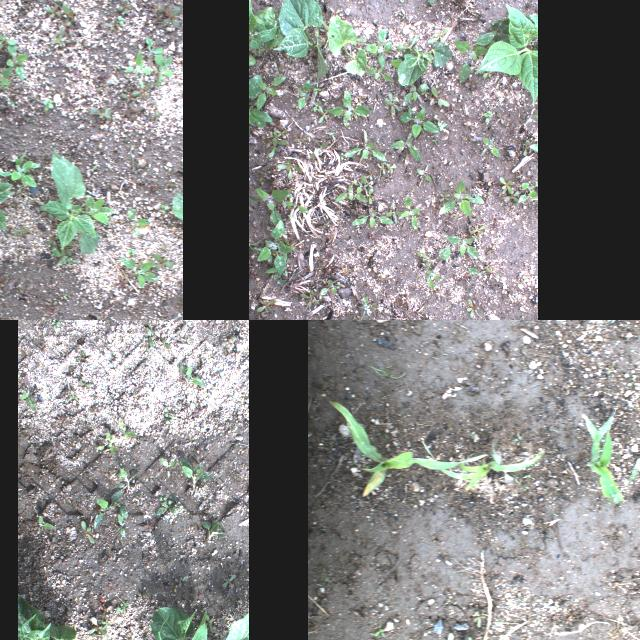crop: (331, 400, 485, 502), (474, 4, 538, 106), (422, 441, 548, 491), (40, 150, 99, 254), (272, 0, 327, 82), (584, 414, 626, 506), (397, 33, 453, 87), (17, 593, 76, 640), (249, 0, 285, 72), (327, 16, 368, 78), (151, 607, 215, 640), (201, 600, 249, 640), (0, 165, 15, 233), (172, 192, 182, 220), (629, 455, 640, 480)
weed: (452, 32, 498, 84), (256, 220, 292, 280), (438, 180, 484, 218), (328, 90, 372, 128), (249, 189, 288, 231), (249, 74, 272, 142), (92, 486, 128, 528), (0, 150, 39, 188), (344, 131, 386, 161), (365, 29, 395, 70), (178, 460, 214, 494), (399, 108, 439, 138), (73, 197, 114, 225), (122, 257, 158, 287), (255, 76, 285, 110), (388, 132, 422, 162), (125, 52, 151, 86), (351, 209, 393, 229), (444, 237, 478, 261), (416, 247, 452, 269), (401, 193, 421, 231), (122, 88, 144, 120), (7, 46, 27, 80), (347, 296, 375, 320), (152, 56, 174, 86), (280, 200, 310, 222), (249, 227, 265, 267), (402, 82, 428, 106), (95, 428, 117, 456), (128, 210, 150, 237), (146, 34, 164, 66), (335, 184, 367, 202), (179, 363, 205, 385), (384, 198, 402, 226), (159, 6, 181, 28), (364, 66, 394, 82), (278, 158, 302, 178), (201, 520, 225, 540), (383, 92, 402, 116), (297, 80, 311, 112), (119, 416, 138, 439), (518, 182, 538, 202), (156, 496, 176, 516), (118, 469, 138, 489), (87, 616, 107, 636), (52, 248, 76, 264), (430, 89, 450, 108), (483, 137, 501, 157), (320, 278, 340, 296), (299, 289, 319, 307), (424, 270, 441, 290), (310, 142, 328, 160), (132, 83, 152, 99), (19, 392, 35, 412), (428, 28, 450, 42), (154, 254, 172, 270), (56, 22, 74, 38), (416, 164, 432, 182), (498, 176, 514, 194), (80, 522, 92, 546), (502, 191, 522, 205), (352, 175, 366, 195), (466, 298, 479, 318), (318, 105, 332, 123), (36, 516, 54, 530), (468, 613, 486, 627), (90, 108, 112, 119), (0, 68, 10, 92), (0, 33, 15, 49), (63, 3, 75, 23), (256, 300, 276, 312), (202, 614, 215, 632), (523, 140, 537, 156), (374, 623, 388, 639), (265, 137, 287, 147), (145, 328, 155, 350), (160, 457, 178, 469), (117, 2, 133, 15), (469, 224, 486, 236), (116, 514, 125, 536), (46, 4, 60, 18), (524, 110, 538, 124), (434, 116, 446, 132), (463, 76, 479, 88), (486, 268, 502, 280), (220, 574, 236, 586), (154, 328, 166, 344), (268, 138, 278, 156), (219, 336, 237, 346), (282, 239, 296, 251), (277, 270, 289, 284), (115, 602, 129, 614), (174, 324, 186, 338), (136, 588, 148, 602), (42, 98, 54, 110), (467, 267, 485, 275), (119, 504, 128, 520), (330, 7, 340, 21), (319, 21, 329, 35), (312, 82, 322, 96), (274, 129, 288, 139), (102, 606, 112, 620), (487, 244, 498, 256), (310, 101, 322, 111), (270, 121, 282, 131), (294, 135, 308, 143), (390, 60, 404, 68), (482, 70, 496, 78), (448, 209, 459, 219), (68, 391, 78, 402), (46, 237, 58, 246), (483, 111, 492, 123), (498, 112, 507, 124), (164, 178, 174, 188), (54, 34, 64, 44), (272, 65, 282, 75), (483, 261, 493, 271), (366, 170, 376, 180), (364, 178, 374, 188), (520, 273, 530, 283), (49, 320, 60, 329), (158, 205, 170, 213), (153, 100, 159, 116), (104, 22, 116, 30), (354, 38, 366, 46), (420, 89, 430, 98), (392, 8, 403, 16), (387, 164, 398, 172), (14, 229, 28, 235), (97, 85, 109, 92), (368, 190, 374, 204), (116, 16, 124, 26), (126, 248, 136, 256), (401, 10, 409, 20), (440, 194, 450, 202), (164, 416, 174, 424), (182, 338, 192, 346), (174, 576, 182, 586), (46, 300, 58, 306), (6, 106, 12, 118), (329, 128, 335, 140), (380, 163, 386, 175), (259, 172, 265, 182), (285, 184, 291, 194), (172, 501, 182, 507), (384, 173, 392, 180), (322, 96, 328, 105), (460, 637, 478, 640), (6, 100, 14, 106), (264, 132, 272, 138), (78, 382, 90, 386), (164, 407, 168, 418), (180, 577, 188, 581), (102, 622, 110, 626), (114, 64, 120, 68)
